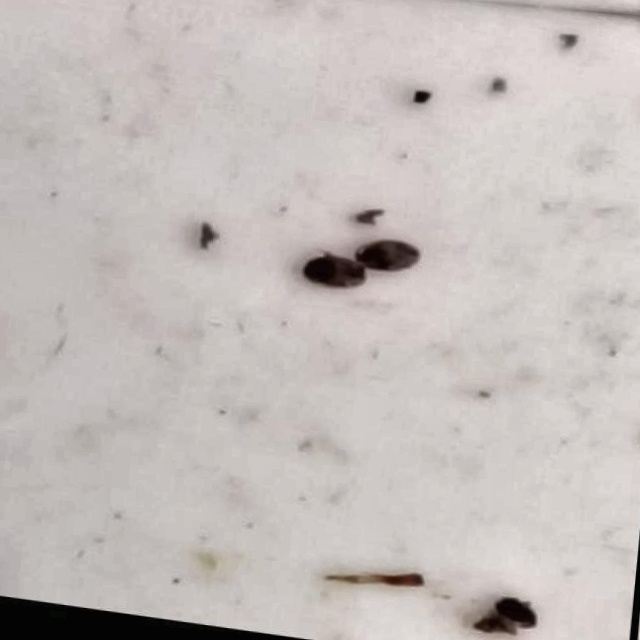varroa: (347, 239, 422, 283), (295, 255, 367, 297), (487, 593, 546, 632)
